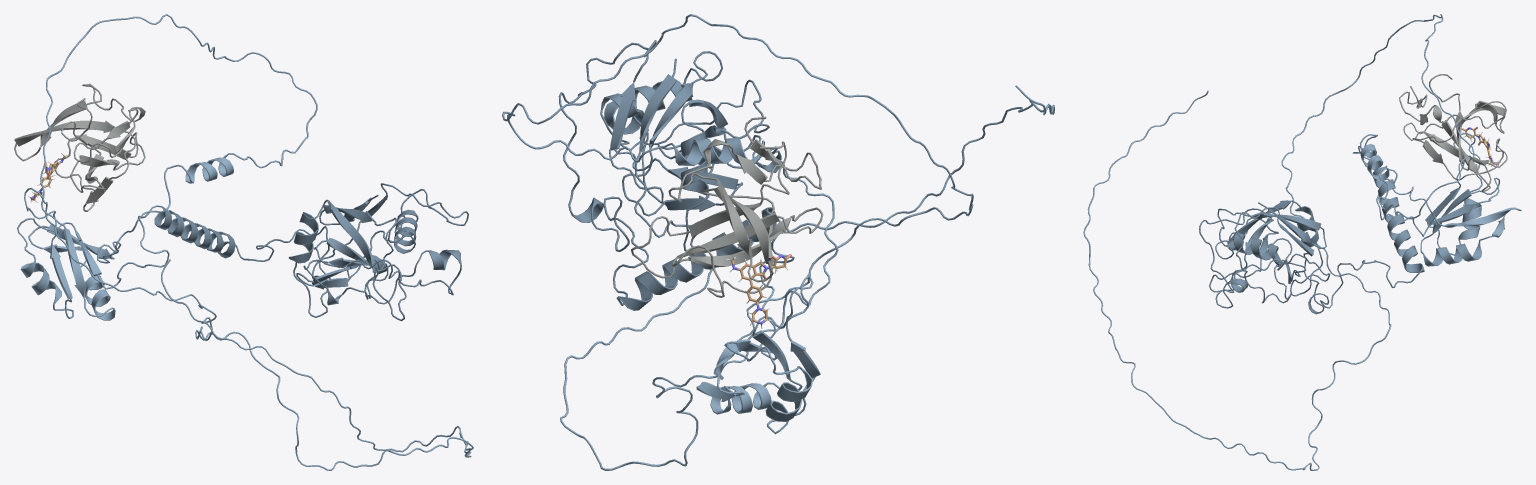
3 renders of one model, left to right at view 1: azimuth 30°, elevation 25°; view 2: azimuth 150°, elevation 25°; view 3: azimuth 270°, elevation 25°, orthographic. The views are drawn at different scales.
Parts seen in each view (by area): view 1: node-geom105, node-geom106; view 2: node-geom105, node-geom106; view 3: node-geom105, node-geom106.
Part boxes in pixels (left/top/right/bottom): node-geom105: left=14, top=83, right=468, bottom=321; node-geom106: left=17, top=14, right=473, bottom=470; node-geom105: left=558, top=40, right=823, bottom=310; node-geom106: left=502, top=14, right=1054, bottom=470; node-geom105: left=1199, top=74, right=1507, bottom=314; node-geom106: left=1083, top=14, right=1521, bottom=470.
Bounding box in the file's own units: 96.43 × 112 × 119.
